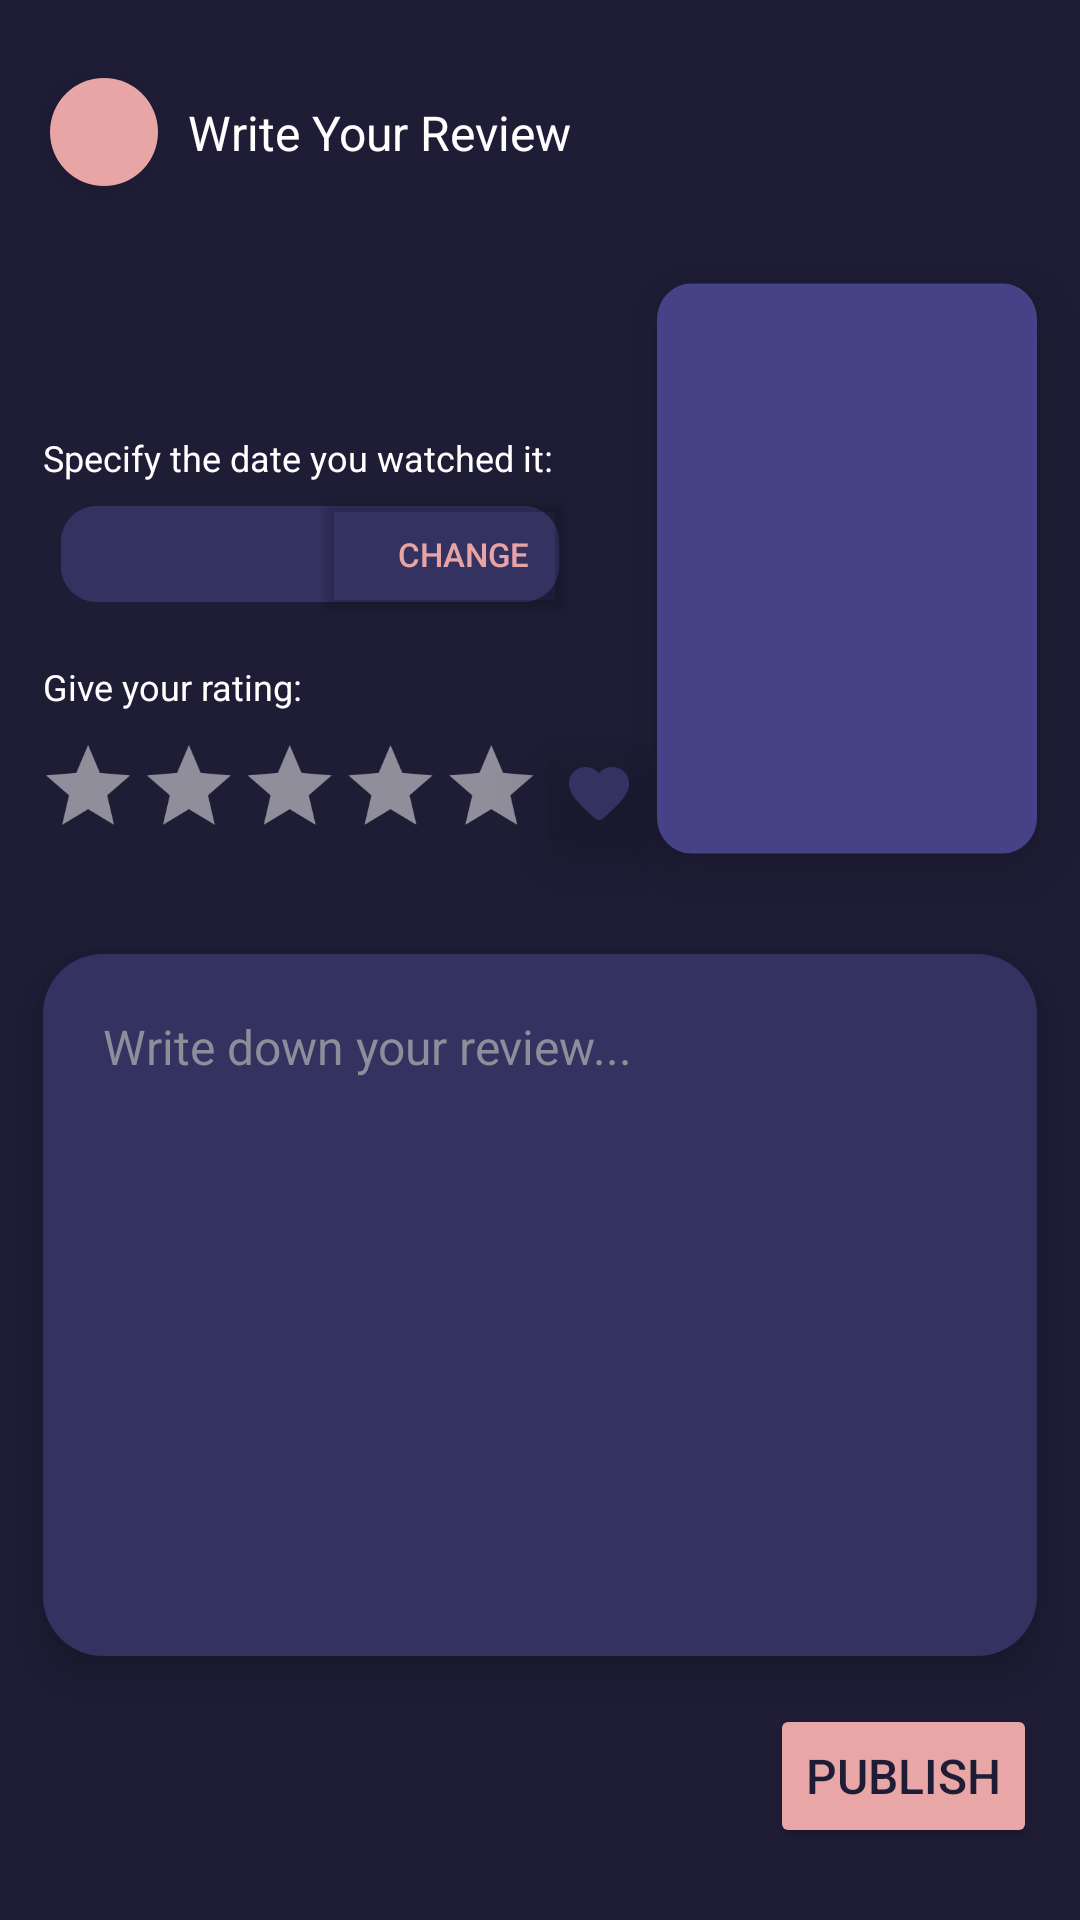

Locate icon controls on the screen. Image size 1080×1920, boxes as (x1, y1, x2, y2).
favorite: (569, 767, 629, 820)
